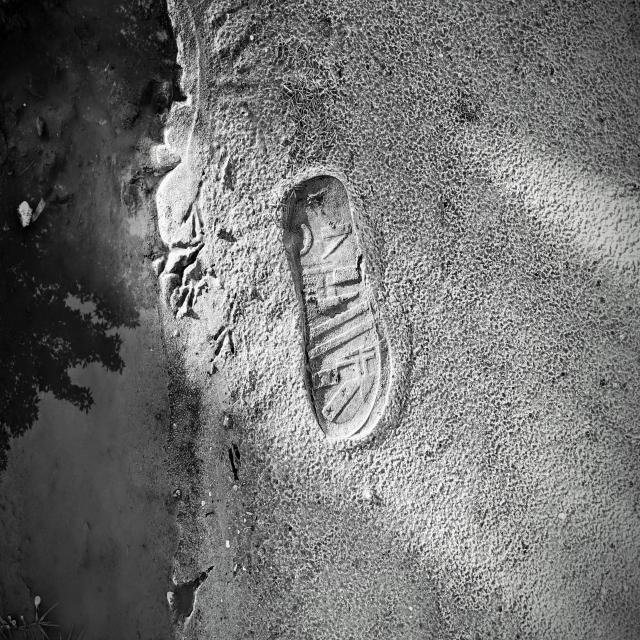human_foot_print: (275, 165, 395, 446)
